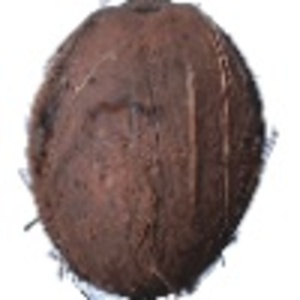coco: (22, 1, 276, 300)
